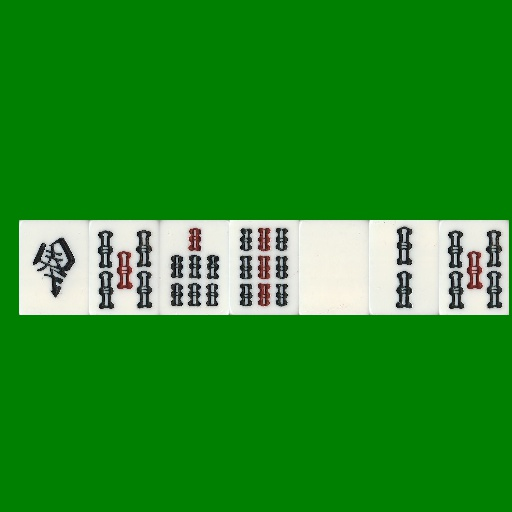2s: (369, 220, 439, 315)
5s: (89, 220, 159, 315), (439, 220, 509, 315)
7s: (159, 220, 229, 315)
9s: (229, 220, 299, 315)
south: (19, 220, 89, 315)
white: (299, 220, 369, 315)
